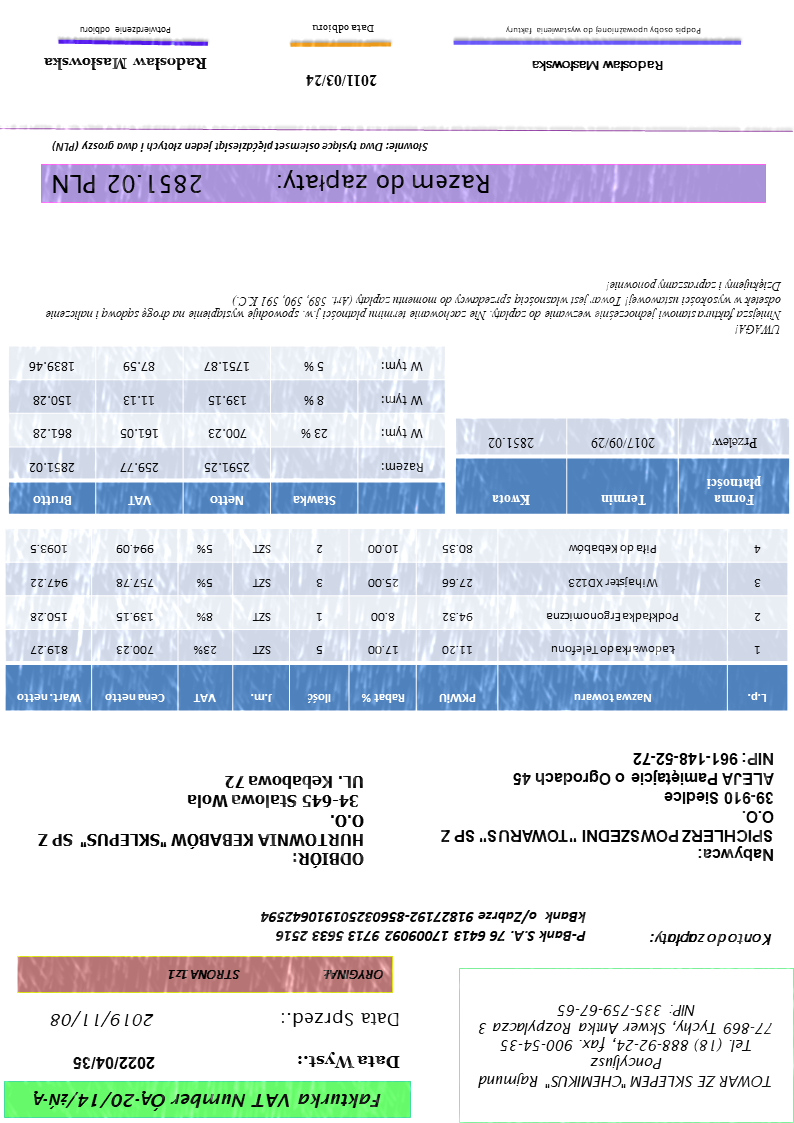Table: (5, 529, 790, 715), (8, 346, 449, 518), (456, 418, 790, 515)
TextBox: (40, 276, 782, 341), (436, 748, 778, 867), (33, 771, 369, 871), (473, 999, 779, 1096), (50, 167, 493, 199), (255, 906, 591, 947), (29, 1086, 387, 1113), (48, 136, 432, 158), (163, 963, 389, 985), (43, 52, 211, 74), (501, 23, 704, 41), (647, 927, 777, 953), (277, 1006, 404, 1031), (46, 1008, 158, 1032), (293, 1049, 404, 1073), (528, 58, 668, 76), (71, 1053, 159, 1075), (302, 70, 383, 91), (76, 22, 173, 38), (309, 20, 378, 38)
